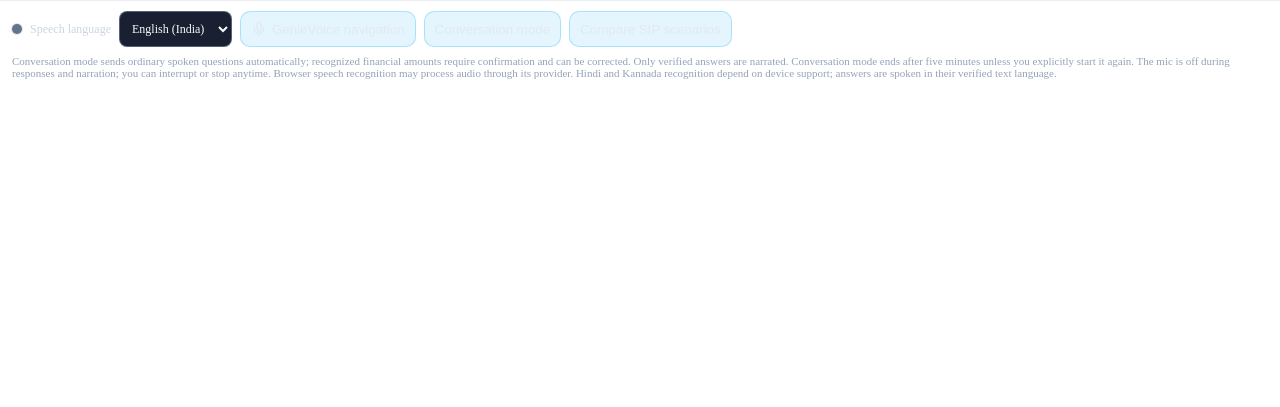
Test case: GenieVoice opt-in navigation › opens a review-required SIP comparison without executing calculator tools
Click the button with aria-label "Start GenieVoice navigation". click: (328, 29)
box: [240,11,416,47]
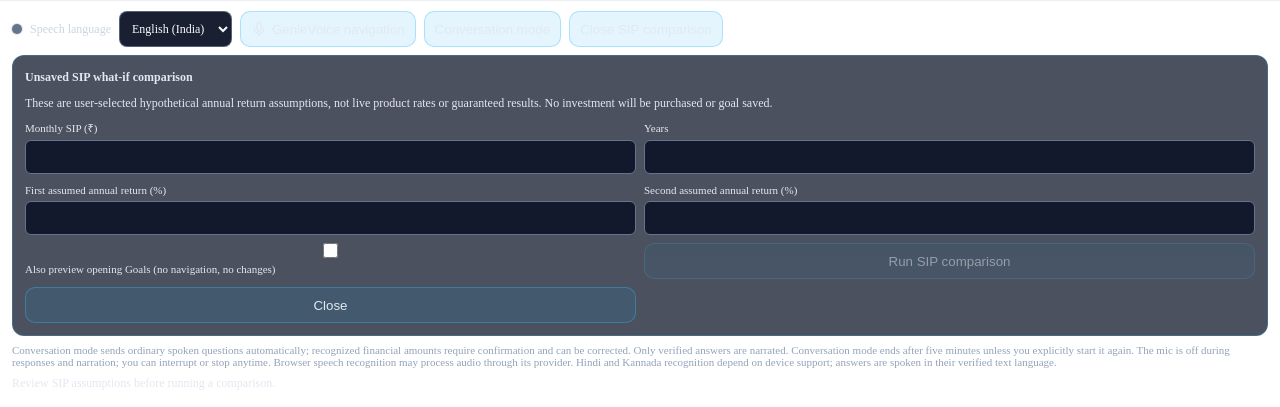
Expected: the button "Run SIP comparison" is disabled, [644,243,1255,279]
